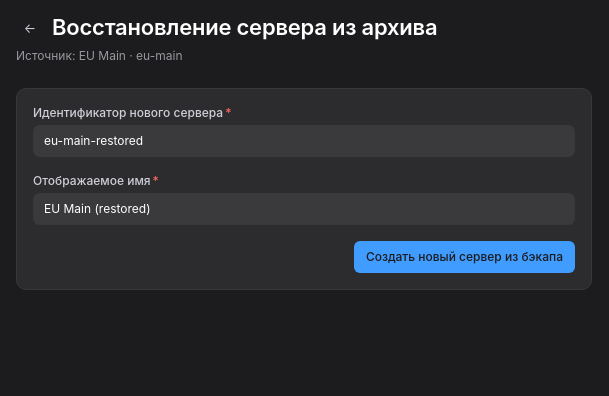
#662 409 restore errors are distinguished by response body › archive_settings_missing: explains settings are missing from the archive
Expected: the field labelled "Идентификатор нового сервера*" is shown, [33, 125, 575, 157]
Click the button "Создать новый сервер из бэкапа". click: (464, 257)
box: [354, 241, 575, 273]
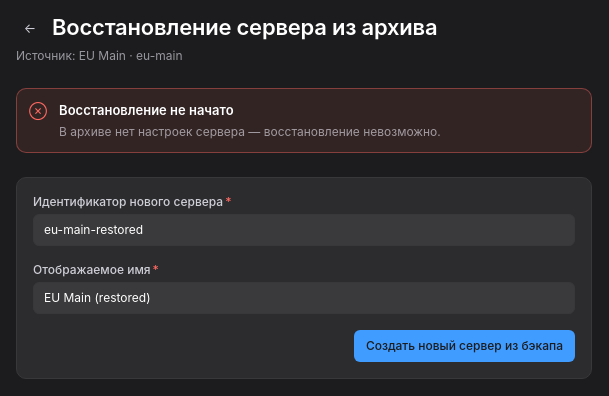
Expected: the message shows "нет настроек сервера", [59, 124, 441, 139]
